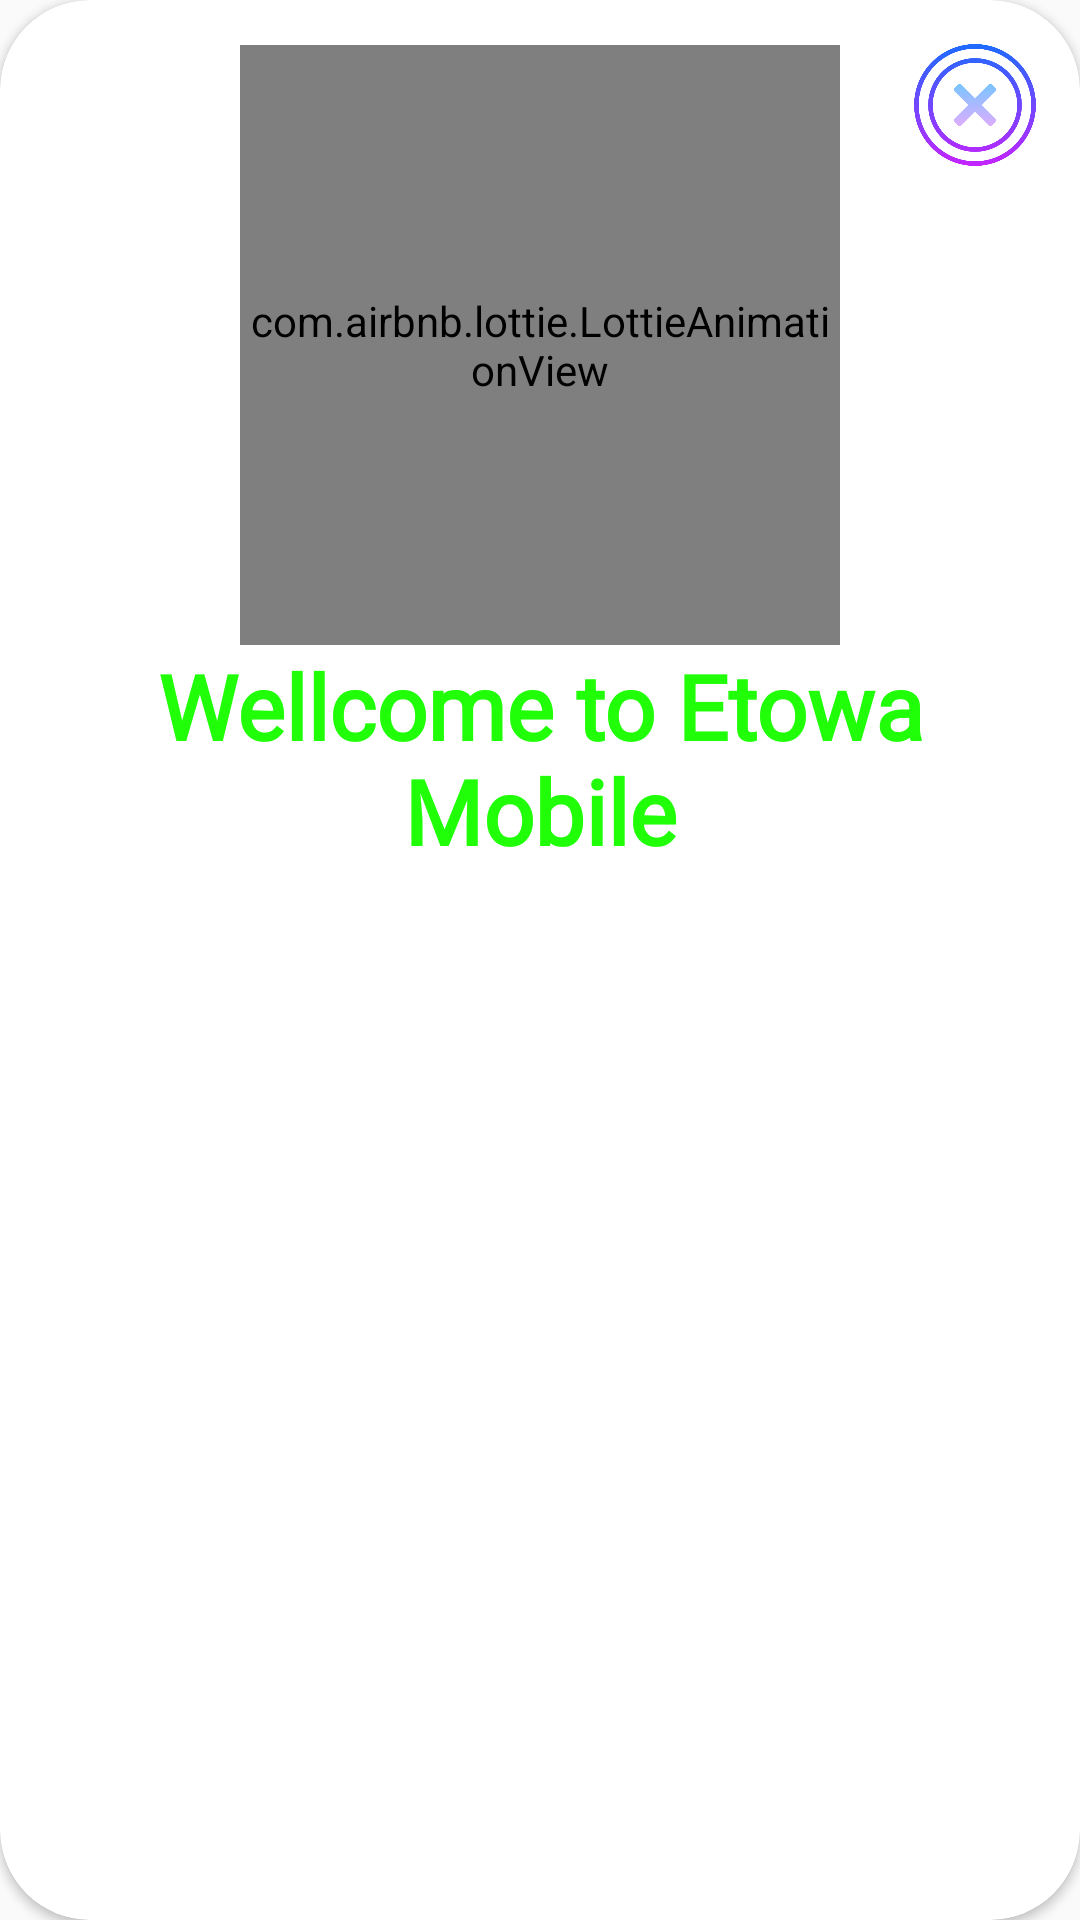

Screen size 1080w x 1920h. Icon name, then its box in pixels as (left=x1, top=y1, right=x2, bottom=y2):
cencel: (left=914, top=44, right=1036, bottom=166)
